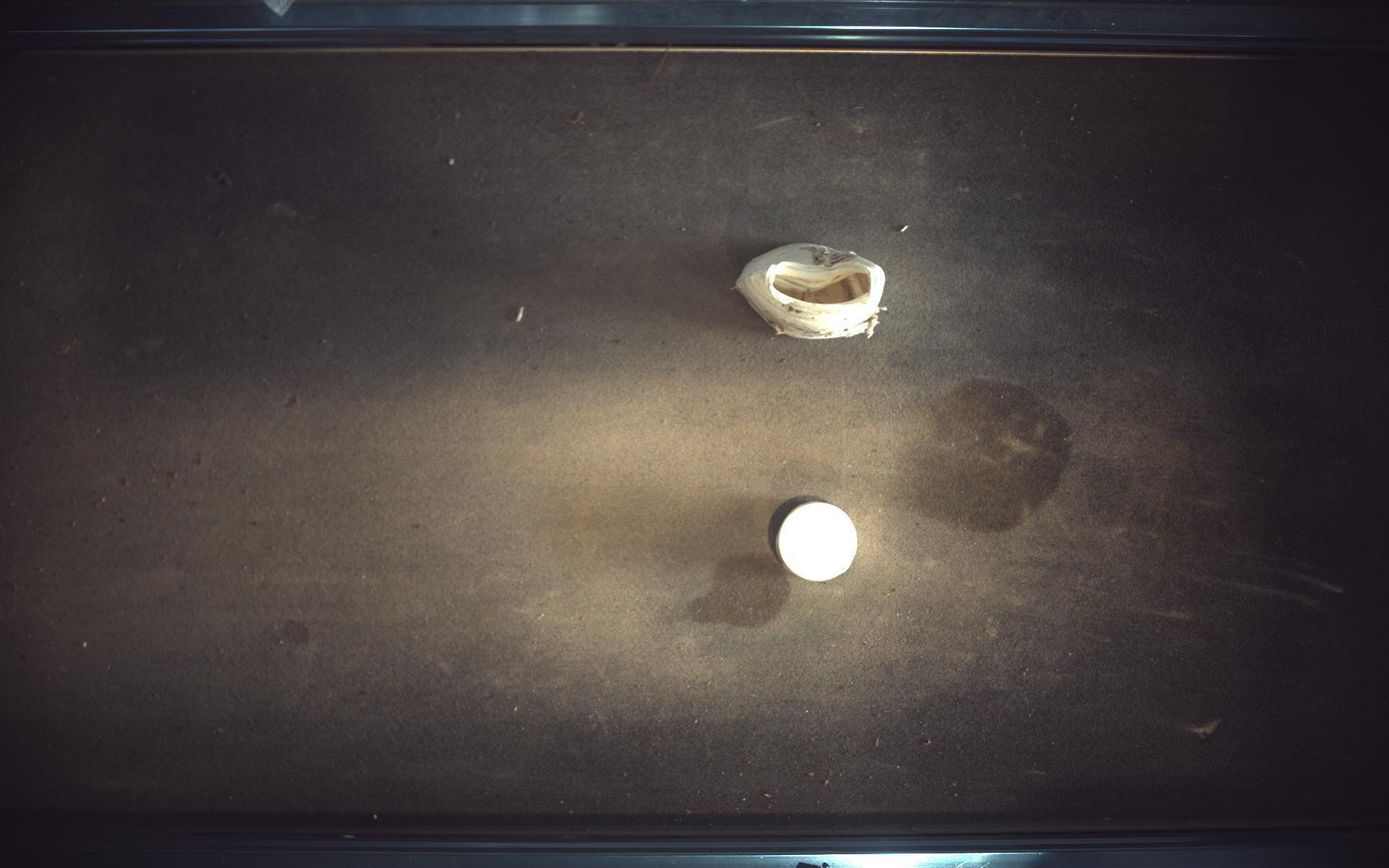general_w: (736, 243, 887, 339), (776, 502, 859, 583)
